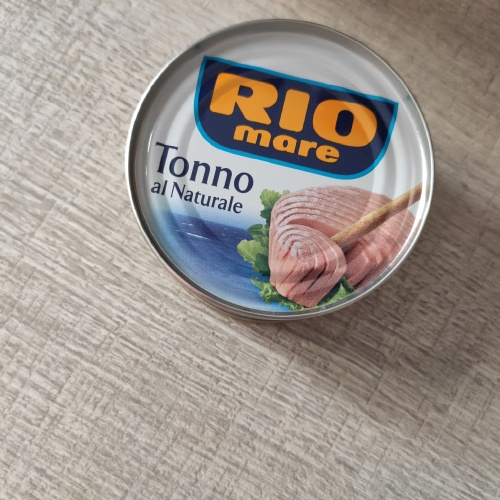tonno: (118, 14, 445, 328)
